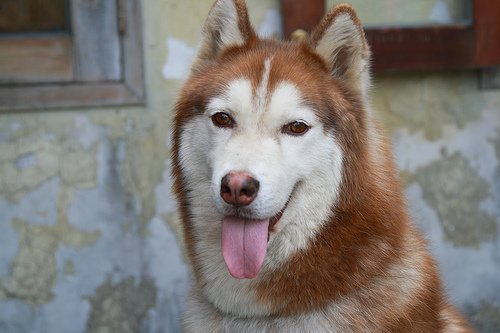dog: (167, 0, 475, 332)
